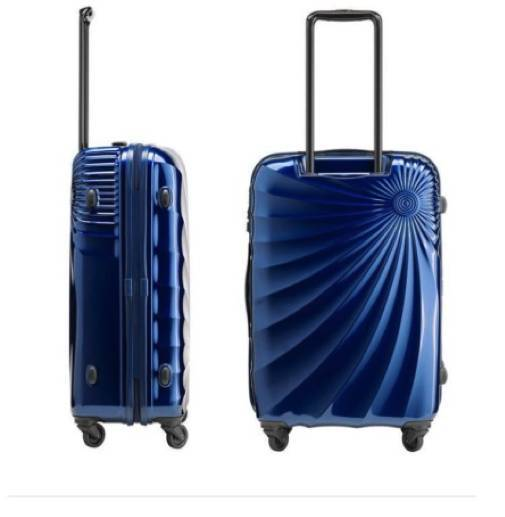luggage: (242, 7, 450, 457), (62, 5, 195, 451)
